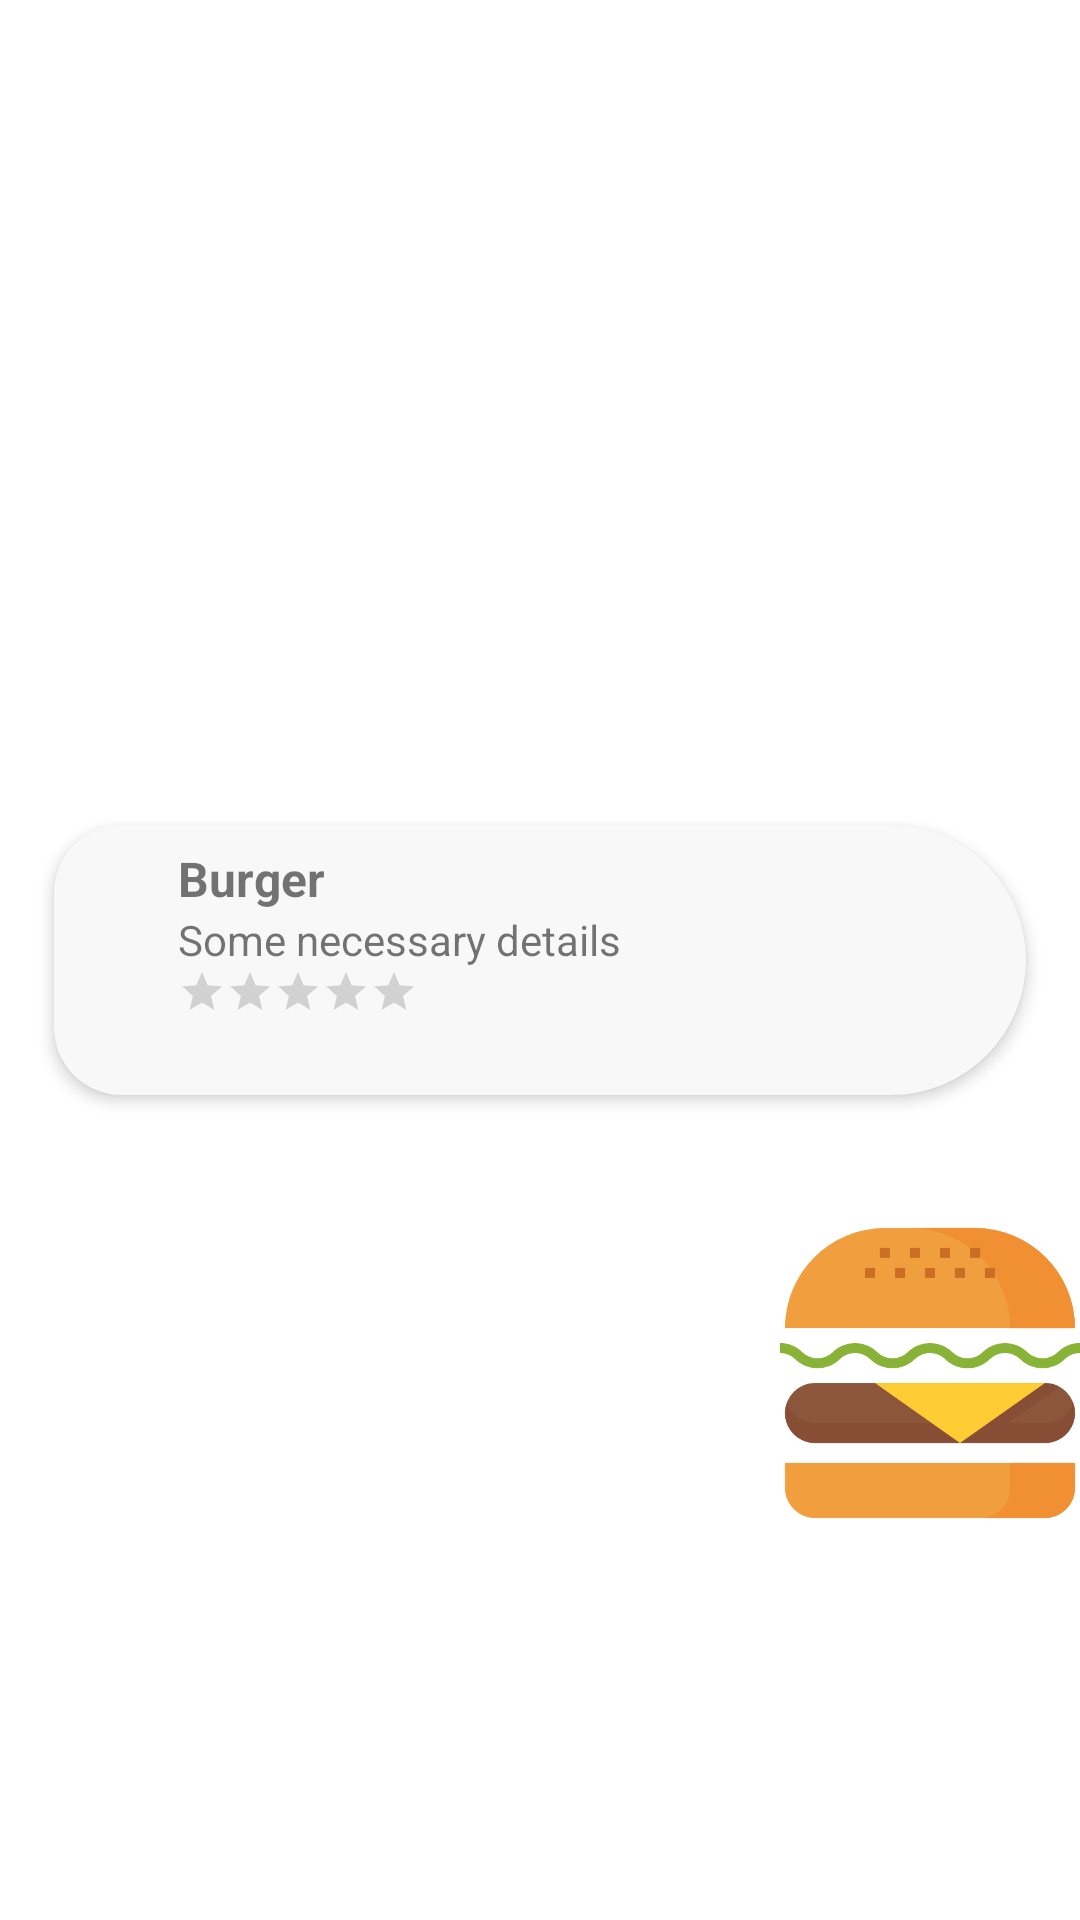

Locate icon controls on the screen. Image size 1080×1920, boxes as (x1, y1, x2, y2).
burger: (780, 1227, 1080, 1519)
